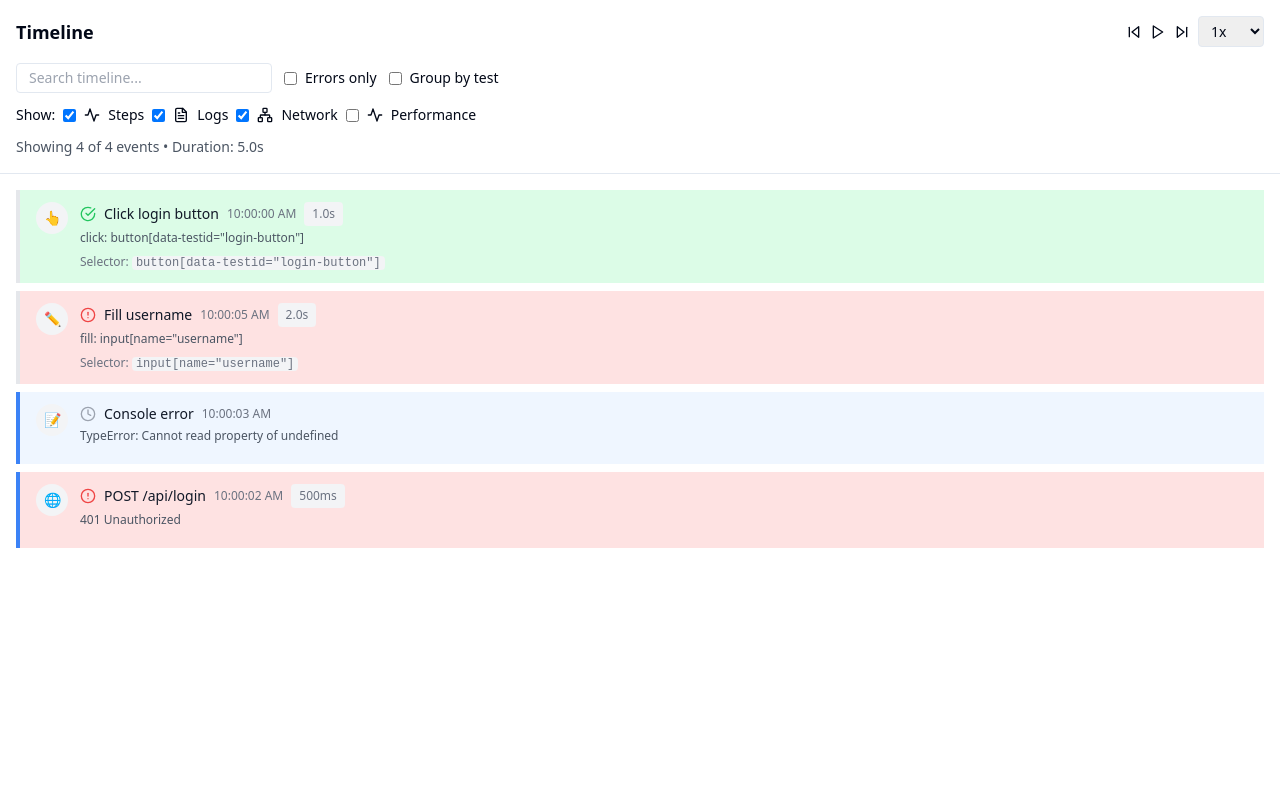
Test: TimelineView › filters by errors only
The image size is (1280, 800).
Click the checkbox labelled "Errors only" at (290, 78), box [284, 72, 297, 84]
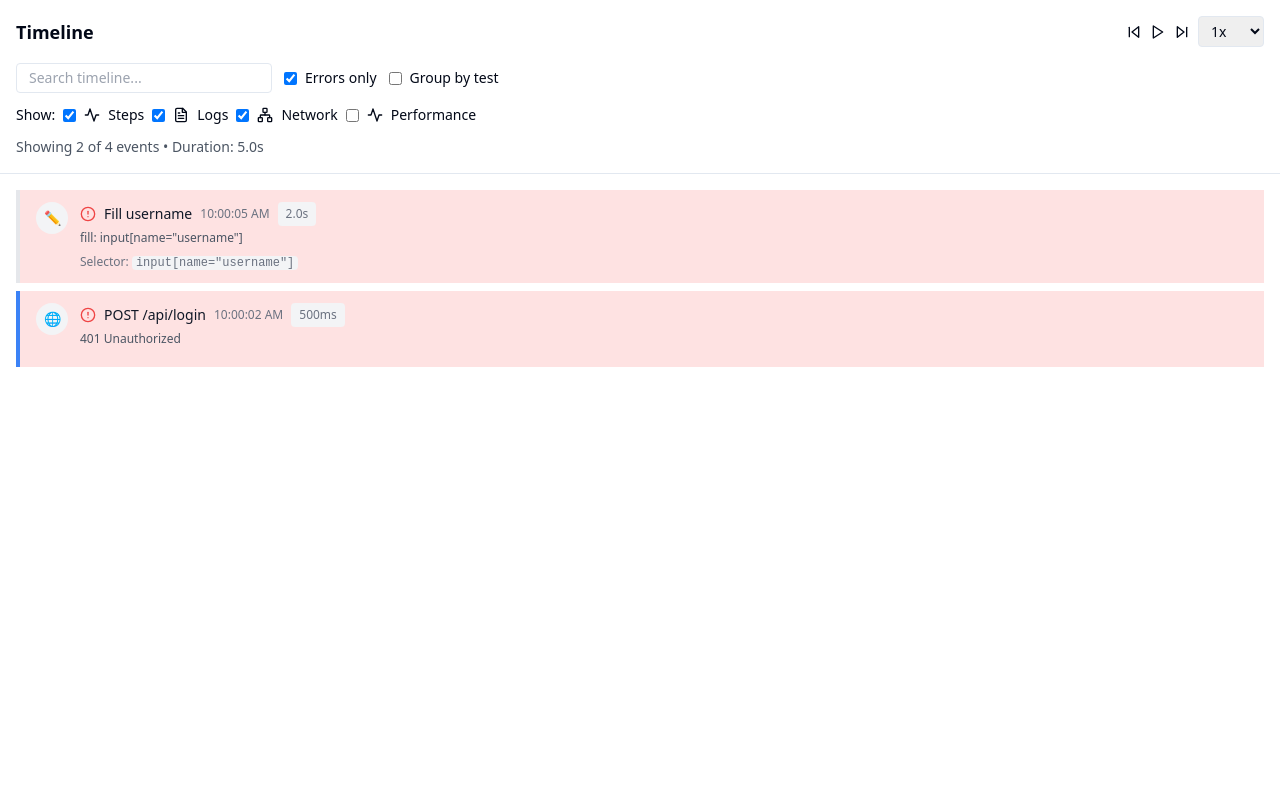
Expected: the heading "Fill username" is shown, [104, 204, 192, 224]
Expected: the text "Showing 2 of 4 events • Duration: 5.0s" is shown, [16, 137, 264, 156]
Expected: the heading "Click login button" is gone
